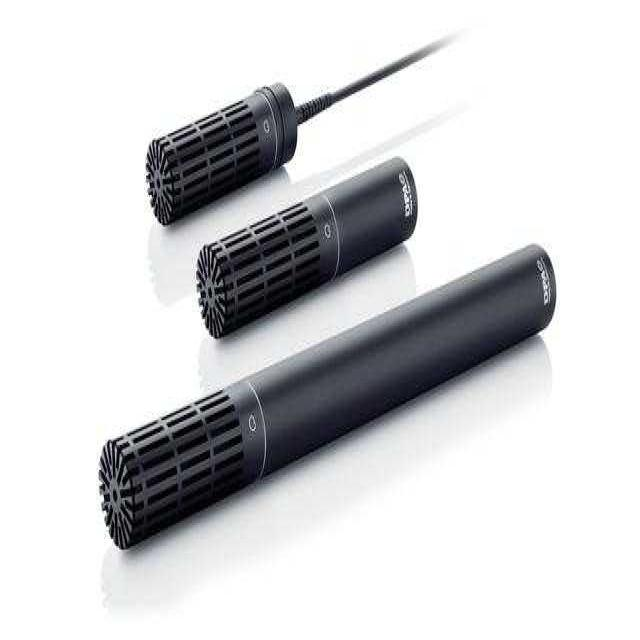microphone: (91, 387, 483, 547), (199, 192, 331, 344), (135, 101, 283, 216)
